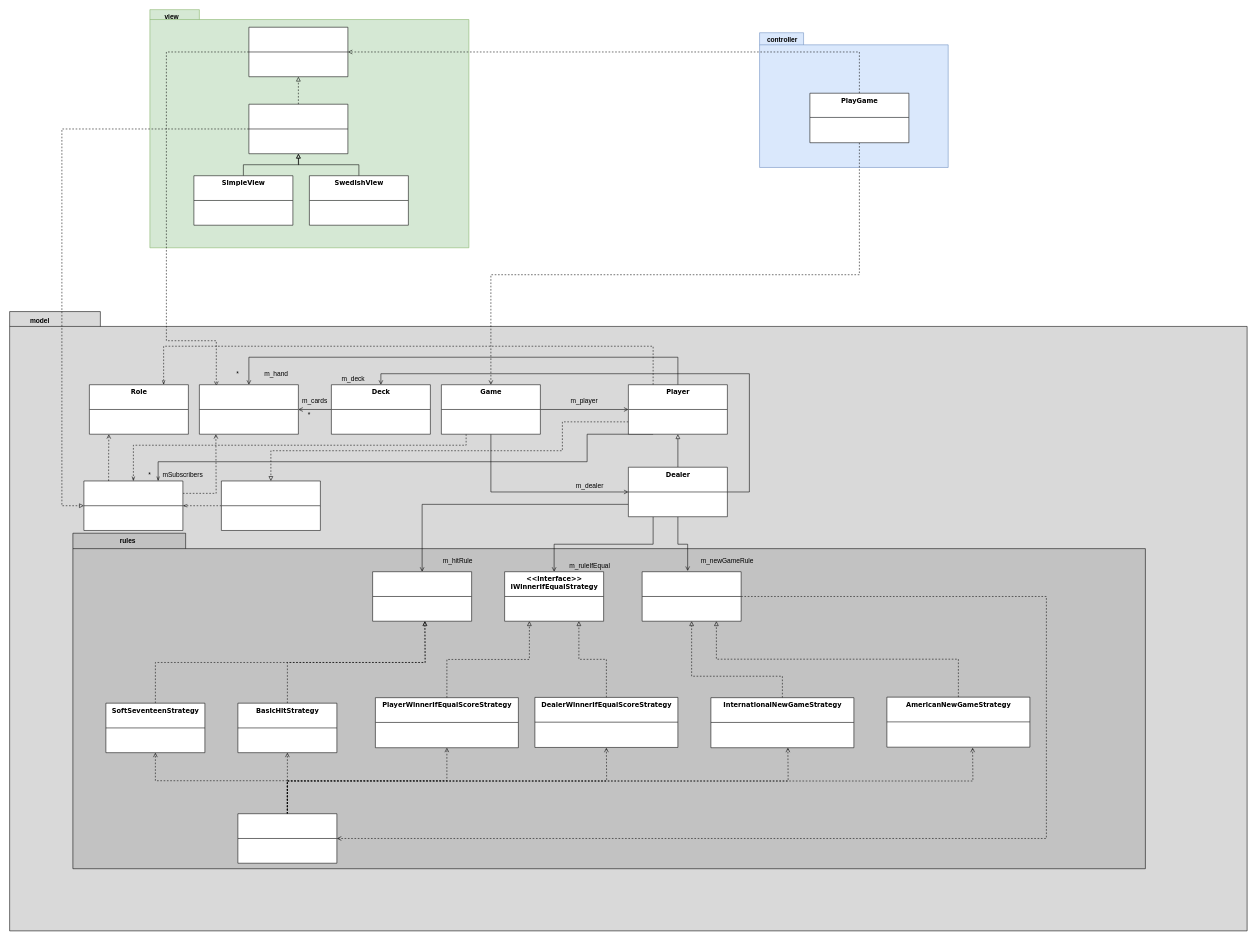
The diagram is 1257 pixels wide and 941 high, and some of its shapes have lost their labels. The shapes that lost their labels are listed below. From the top down, each one's centre as x and y in pixels, then its label:
At pixel 298 52: "<<interface> IView".
At pixel 298 129: "<<abstract>> BaseView".
At pixel 248 409: "Card".
At pixel 133 505: "<<interface> PlayerObserver".
At pixel 270 505: "<<interface> PlayerPublisher".
At pixel 422 596: "<<interface>> IHitStrategy".
At pixel 691 596: "<<interface>> INewGameStrategy".
At pixel 287 838: "RulesFactory".
